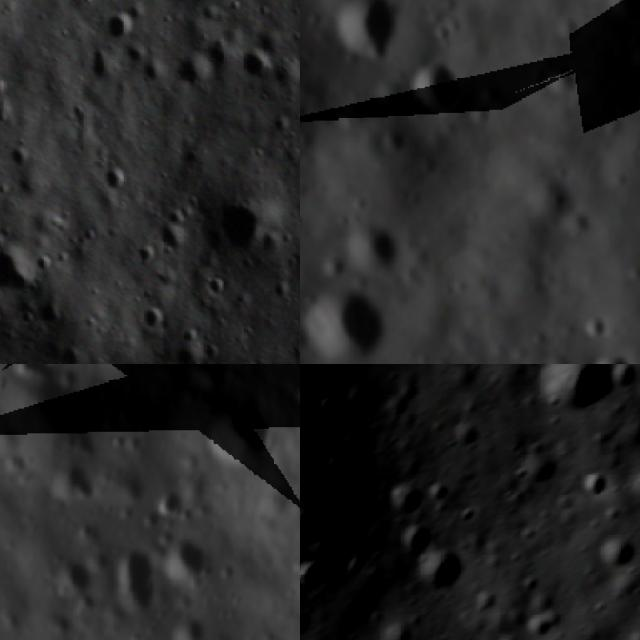crater: (300, 277, 400, 364), (317, 0, 412, 85), (339, 213, 411, 284), (300, 366, 337, 500), (521, 364, 622, 411), (211, 398, 268, 462), (220, 192, 275, 258), (402, 62, 462, 122), (412, 543, 469, 606), (114, 552, 158, 616), (589, 527, 640, 573), (0, 242, 39, 296), (170, 50, 213, 96), (540, 60, 584, 104), (49, 554, 89, 602), (174, 538, 214, 582), (386, 477, 424, 518), (373, 122, 411, 161), (397, 518, 432, 560), (524, 601, 561, 640), (101, 7, 138, 44), (238, 44, 274, 82), (578, 463, 614, 501), (155, 217, 190, 254), (300, 550, 328, 595), (198, 41, 234, 74), (576, 315, 609, 348), (101, 165, 132, 193), (142, 301, 166, 337), (36, 298, 66, 326), (580, 350, 640, 364), (203, 273, 229, 304), (34, 244, 58, 276), (5, 144, 33, 170), (300, 604, 319, 640), (173, 343, 204, 364), (526, 330, 552, 353), (0, 70, 14, 104), (203, 339, 221, 364), (180, 326, 201, 346), (294, 17, 300, 60)
